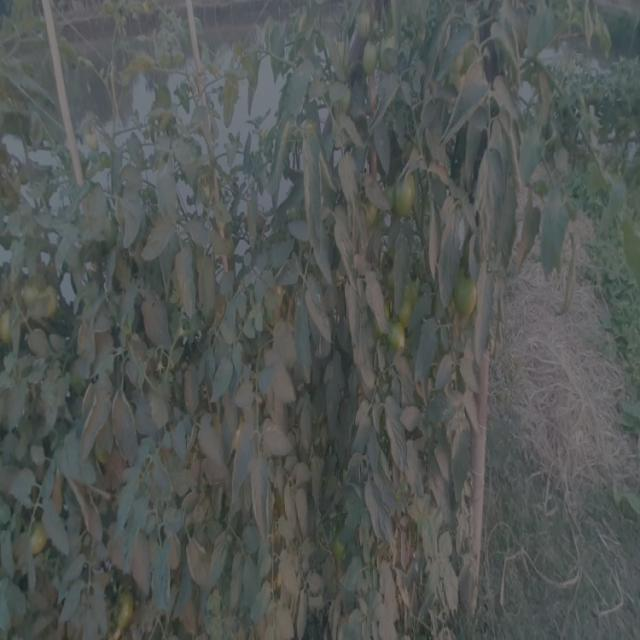tomato: (449, 269, 485, 322), (26, 276, 58, 323), (449, 52, 486, 90), (110, 589, 141, 631), (22, 521, 52, 563), (382, 316, 412, 357), (376, 39, 406, 74), (1, 308, 21, 355), (398, 172, 419, 211), (354, 9, 380, 38), (359, 47, 378, 74)
